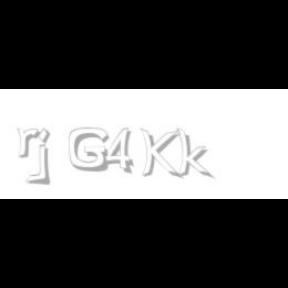4: (104, 128, 134, 174)
G: (69, 128, 109, 172)
K: (140, 128, 180, 180)
j: (36, 128, 64, 186)
k: (176, 128, 214, 180)
r: (16, 128, 44, 158)
